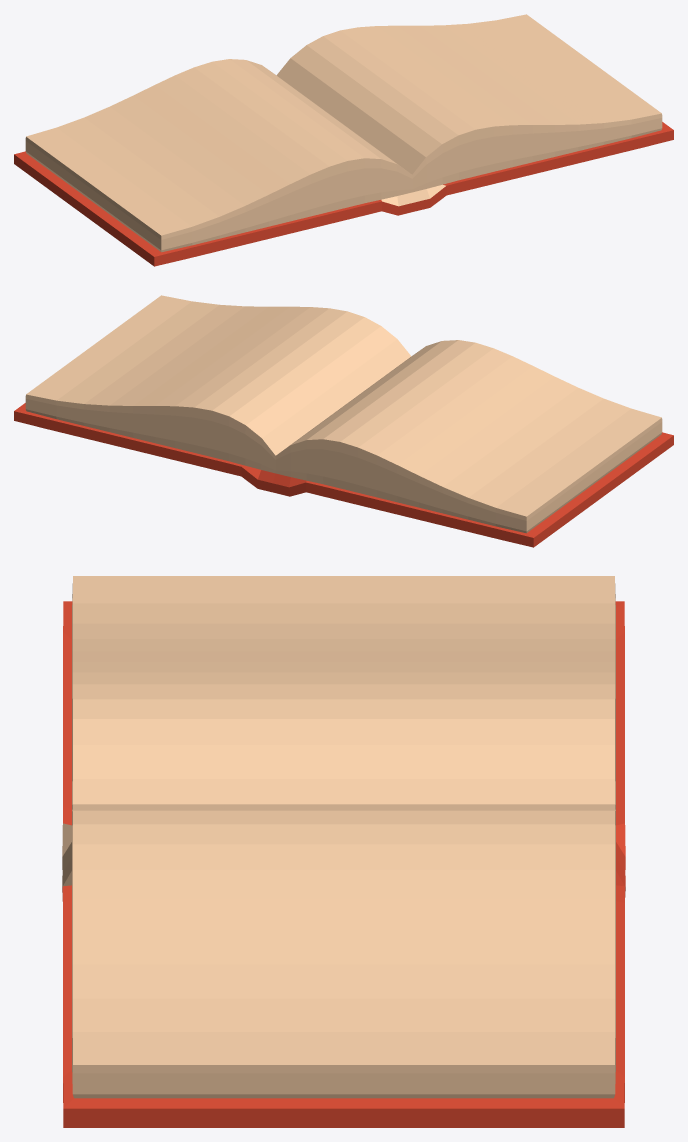
File: openBook.fbx
The picture shows the model from 3 angles, top to bottom: view 1: azimuth 30°, elevation 25°; view 2: azimuth 150°, elevation 25°; view 3: azimuth 270°, elevation 25°; orthographic projection. The views are drawn at different scales.
Parts seen in each view (by area): view 1: BezierCurve; view 2: BezierCurve; view 3: BezierCurve.
Boxes of the visible parts, <box> form: BezierCurve: <box>14,14,673,266</box>; BezierCurve: <box>14,295,673,547</box>; BezierCurve: <box>62,576,625,1127</box>.
Bounding box in the file's own units: 415 × 49.51 × 195.
